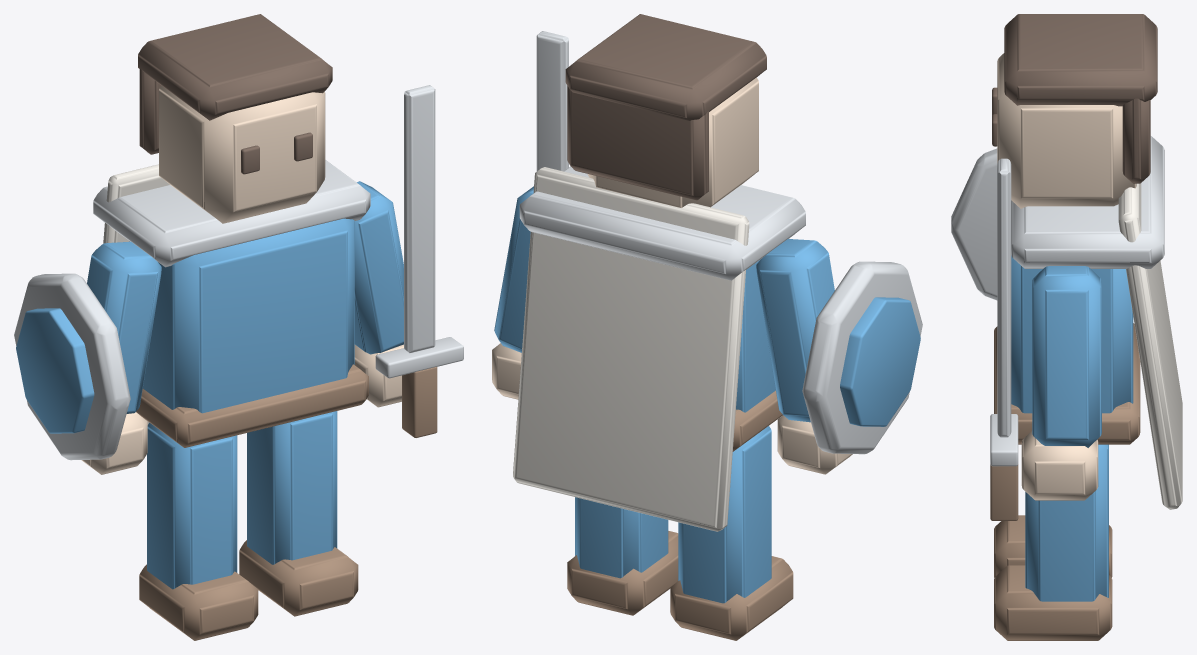
File: PL_Player_S.fbx
The picture shows the model from 3 angles, left to right: view 1: azimuth 30°, elevation 25°; view 2: azimuth 150°, elevation 25°; view 3: azimuth 270°, elevation 25°; orthographic projection. The views are drawn at different scales.
Parts seen in each view (by area): view 1: PL_Player_S; view 2: PL_Player_S; view 3: PL_Player_S.
Boxes of the visible parts, x1,y1,x2,y2 form: PL_Player_S: (14, 14, 463, 640); PL_Player_S: (492, 14, 922, 640); PL_Player_S: (951, 14, 1182, 640).
Size of the model in its own units: 1.31 by 1.78 by 0.6644.
